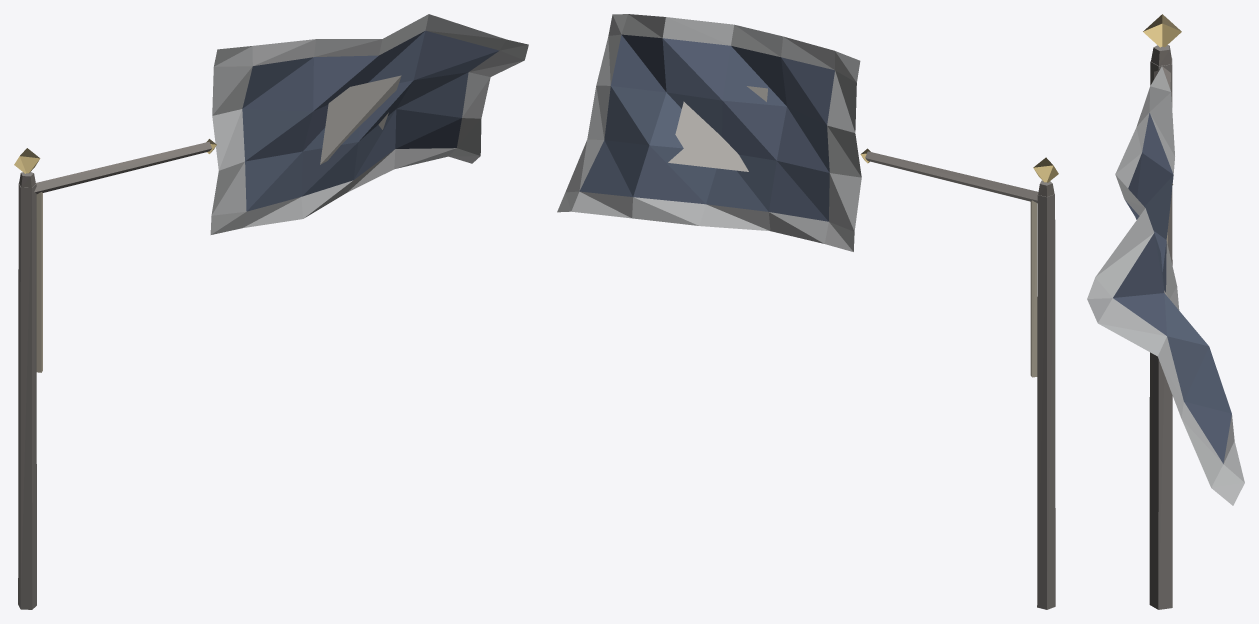
Rendered from flag.notched.dianqi__pole.stick.fangun__armFly.glb.
3 views of the same model, side by side, from view 1: azimuth 30°, elevation 25°; view 2: azimuth 150°, elevation 25°; view 3: azimuth 270°, elevation 25° (orthographic). The views are drawn at different scales.
Parts seen in each view (by area): view 1: flag.notched.dianqi; view 2: flag.notched.dianqi; view 3: flag.notched.dianqi.
Boxes of the visible parts, box(x1,y1,x2,y2) form: flag.notched.dianqi: box(14, 14, 528, 609); flag.notched.dianqi: box(557, 14, 1058, 609); flag.notched.dianqi: box(1087, 14, 1244, 609).
Size of the model in its own units: 2.53 by 2.54 by 0.5532.
